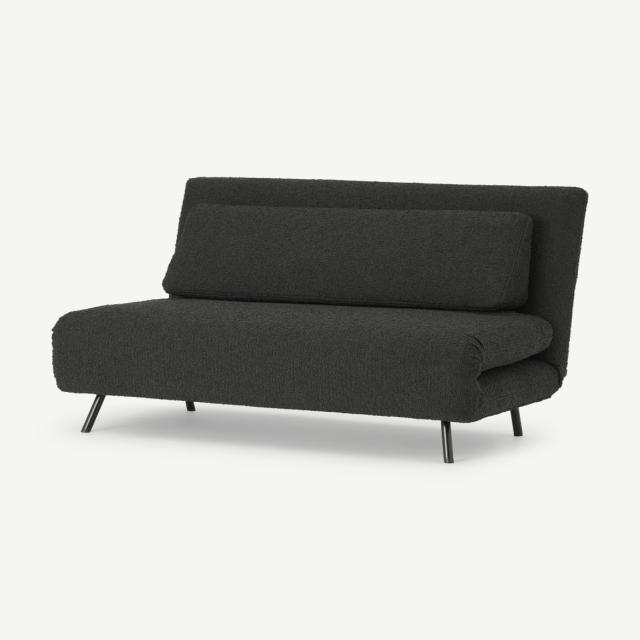Soffa: (58, 165, 592, 473)
